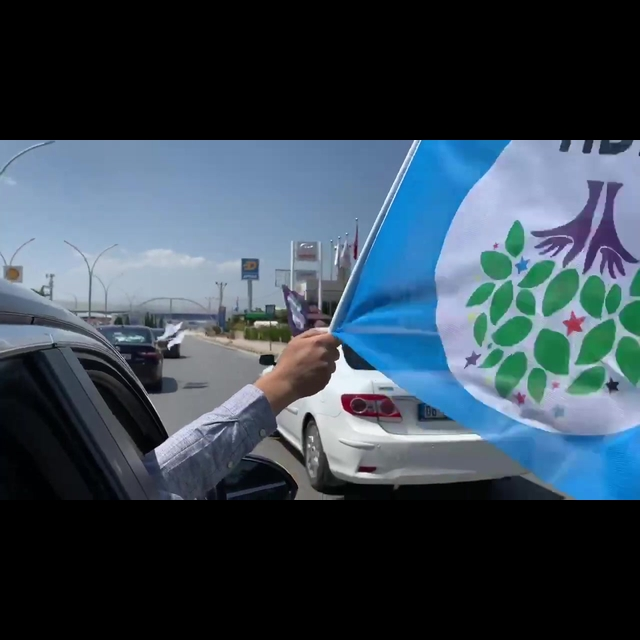HDP: (456, 176, 640, 423)
